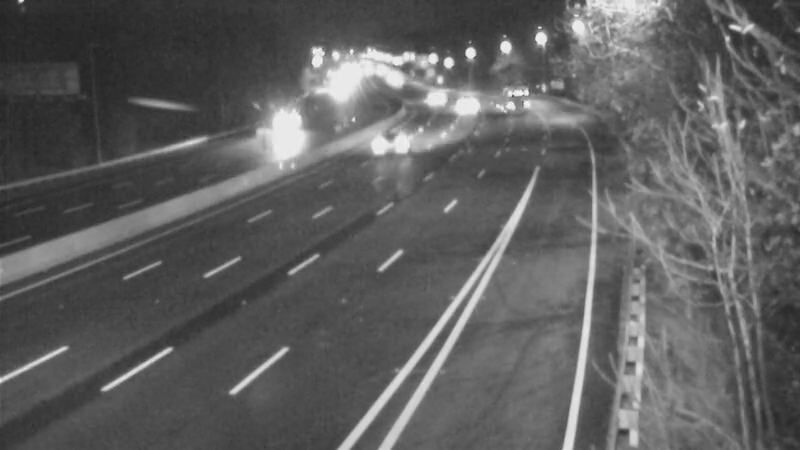vehicle: (374, 60, 424, 110), (486, 76, 536, 126), (405, 75, 455, 125), (439, 78, 489, 128), (364, 117, 414, 167), (261, 97, 311, 147), (313, 64, 363, 114)
